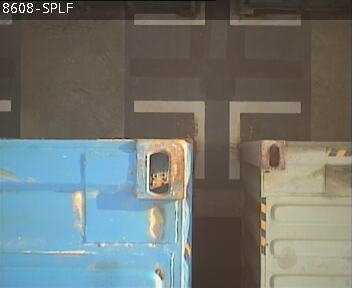groundmarker_1: (134, 101, 301, 179)
